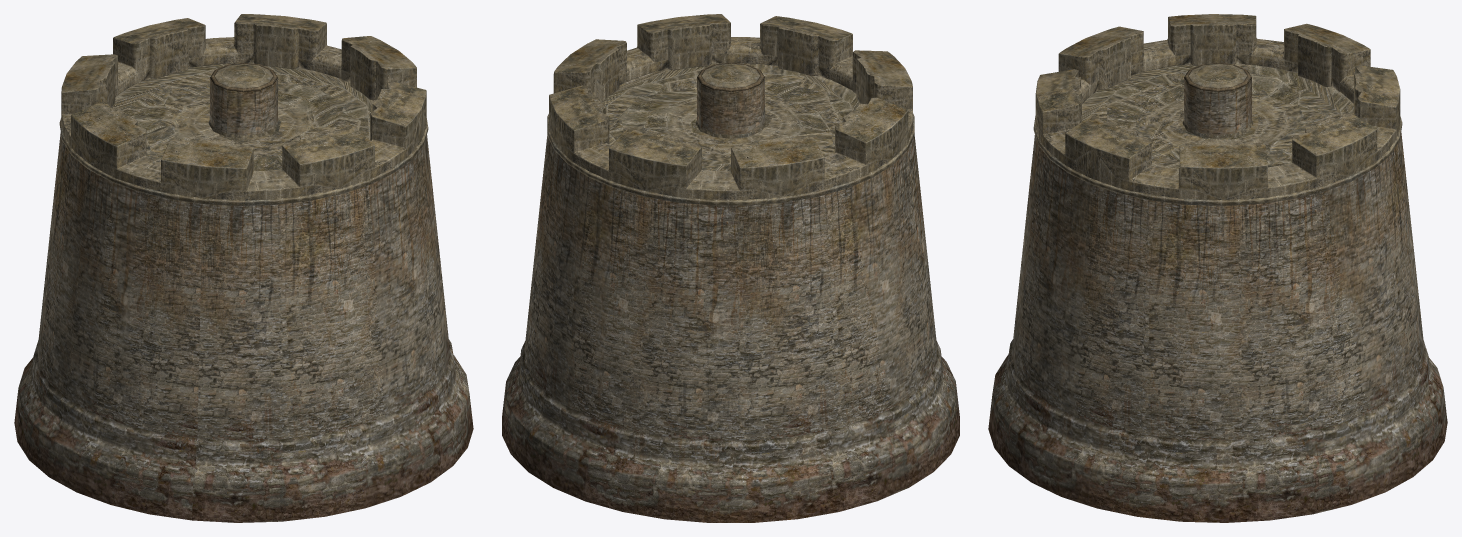
Rendered from modular_fort_01_tower_round.gltf.
The picture shows the model from 3 angles, left to right: view 1: azimuth 30°, elevation 25°; view 2: azimuth 150°, elevation 25°; view 3: azimuth 270°, elevation 25°; orthographic projection.
Visible parts, largest first — view 1: modular_fort_01_tower_round__x; view 2: modular_fort_01_tower_round__x; view 3: modular_fort_01_tower_round__x.
Part boxes in pixels (<box>): modular_fort_01_tower_round__x: <box>14,14,473,522</box>; modular_fort_01_tower_round__x: <box>502,14,959,522</box>; modular_fort_01_tower_round__x: <box>988,14,1447,522</box>.
Size of the model in its own units: 15.84 by 13.5 by 15.84.
2 materials, 2 textured.
